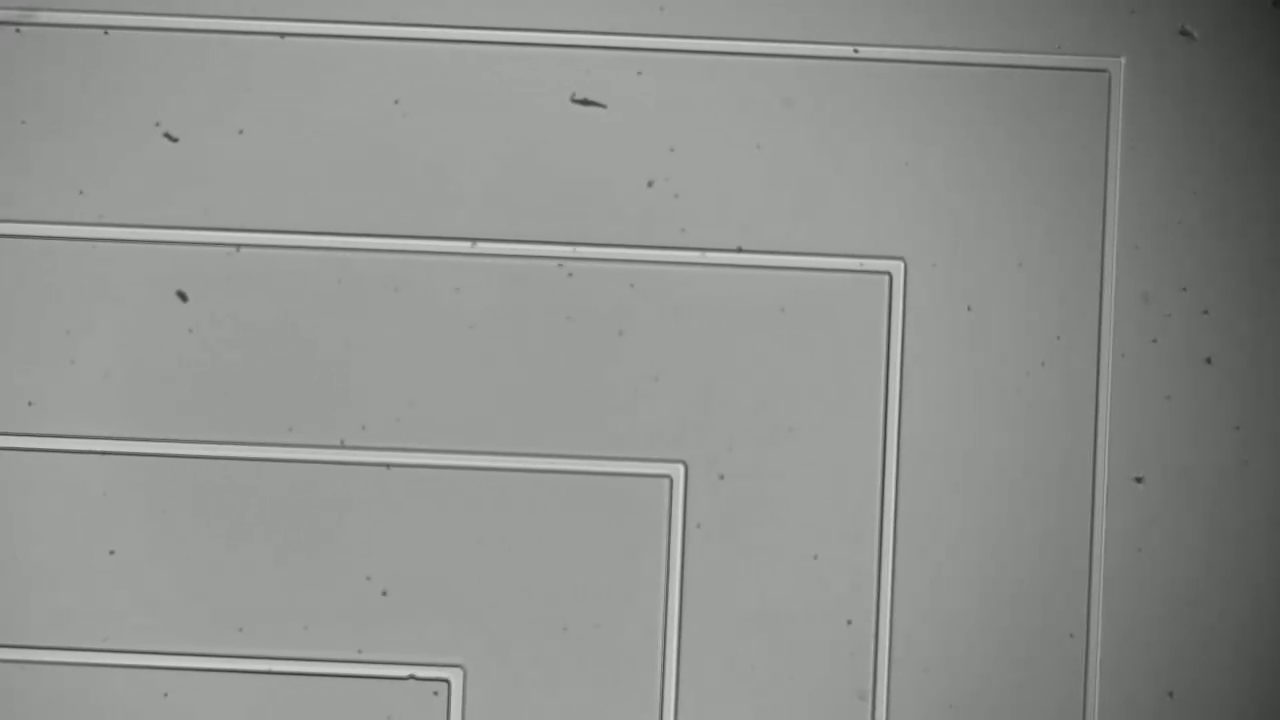edge_bite: (393, 653, 427, 684)
